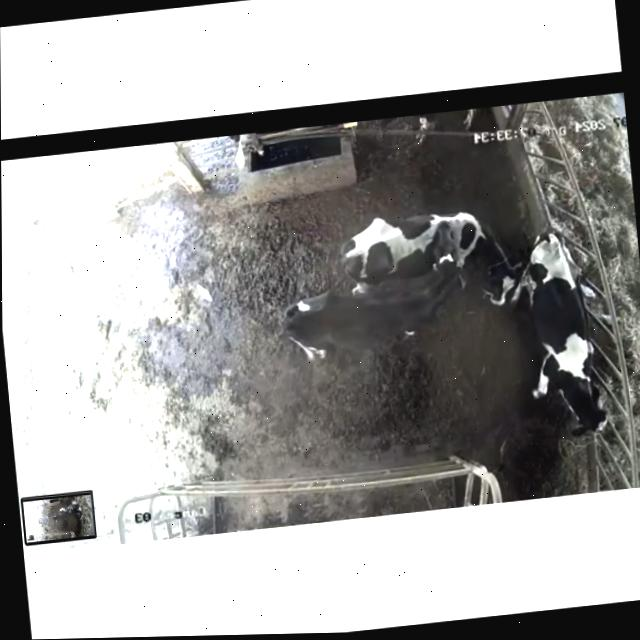propping: (404, 204, 477, 301)
